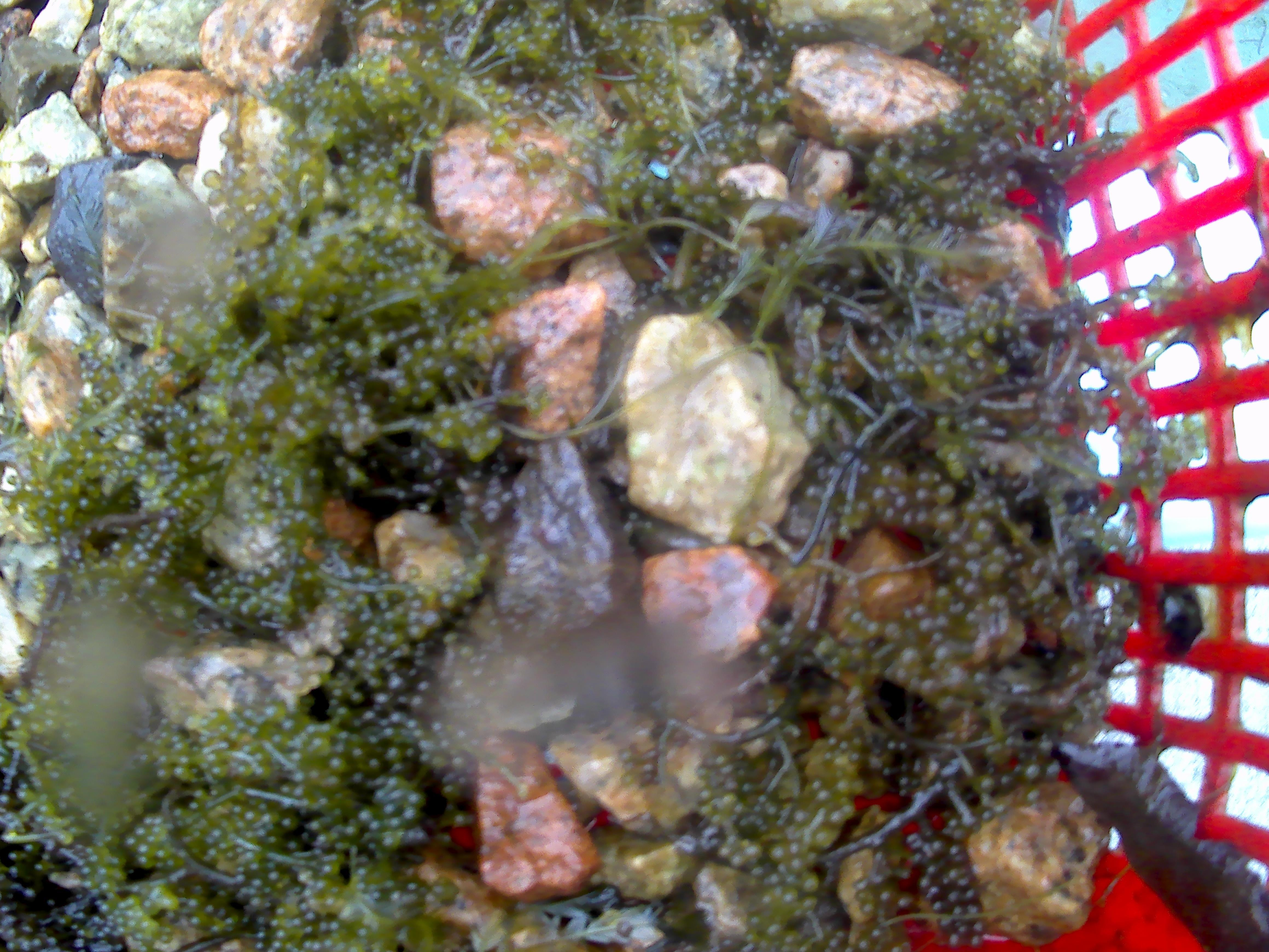Darkening: (990, 141, 1016, 165), (963, 579, 986, 601), (971, 522, 994, 544), (915, 619, 936, 641), (827, 706, 846, 727), (388, 675, 408, 694), (374, 690, 395, 708), (1003, 170, 1021, 190), (944, 26, 963, 44), (409, 696, 428, 714), (935, 512, 955, 529), (947, 197, 963, 218), (961, 542, 982, 558), (915, 603, 933, 621), (913, 759, 931, 777), (486, 507, 502, 527), (979, 156, 997, 173), (999, 774, 1017, 791), (1024, 765, 1042, 782), (963, 503, 982, 519), (872, 486, 889, 503), (925, 885, 942, 902), (984, 564, 1001, 581), (500, 491, 516, 509), (946, 552, 959, 574), (913, 510, 930, 526), (989, 187, 1005, 204), (951, 827, 967, 843), (979, 778, 995, 794), (937, 485, 954, 500), (900, 739, 915, 756), (870, 923, 884, 941), (947, 867, 963, 882), (896, 895, 912, 910), (915, 487, 930, 503), (305, 910, 321, 925), (881, 466, 898, 480), (876, 347, 893, 361), (724, 779, 739, 794), (895, 491, 909, 507), (879, 884, 893, 900), (932, 902, 948, 916), (1002, 328, 1016, 344), (640, 773, 656, 787), (151, 534, 167, 548), (1007, 570, 1022, 584), (931, 841, 947, 854), (938, 918, 954, 931), (45, 840, 58, 856), (949, 843, 965, 856), (954, 853, 970, 866), (700, 20, 714, 34), (144, 541, 159, 554), (0, 794, 12, 810), (967, 889, 981, 902), (957, 878, 971, 891), (976, 62, 989, 76), (826, 736, 840, 749), (250, 899, 265, 911), (1015, 552, 1026, 568), (899, 777, 912, 790), (355, 648, 368, 661), (888, 740, 901, 753), (235, 891, 248, 904), (927, 861, 939, 874), (946, 888, 958, 901), (953, 907, 966, 919), (691, 33, 703, 46), (973, 922, 985, 934), (644, 764, 660, 773), (949, 935, 962, 946), (959, 926, 971, 937), (971, 935, 983, 946)
Harvestable: (281, 716, 304, 738), (265, 702, 286, 723), (813, 827, 833, 848), (391, 376, 411, 396), (769, 844, 789, 863), (401, 39, 421, 58), (225, 274, 246, 292), (802, 873, 819, 893), (425, 2, 443, 20), (329, 757, 348, 774), (779, 889, 798, 906), (311, 737, 331, 753), (418, 380, 438, 396), (159, 894, 178, 910), (63, 478, 80, 495), (967, 341, 984, 358), (467, 444, 484, 461), (36, 505, 54, 521), (126, 558, 142, 576), (271, 732, 289, 748), (139, 473, 156, 489), (112, 540, 128, 557), (216, 210, 232, 227), (292, 277, 308, 294), (492, 23, 506, 42), (211, 763, 227, 779), (204, 171, 220, 187), (234, 189, 250, 205), (495, 86, 511, 102), (491, 127, 507, 143), (370, 54, 386, 70), (487, 426, 503, 442), (422, 357, 438, 373), (409, 624, 426, 639), (174, 766, 191, 781), (388, 631, 405, 646), (138, 855, 155, 870), (442, 417, 457, 434), (211, 708, 226, 724), (985, 327, 1000, 343), (441, 592, 457, 607), (307, 260, 323, 275), (680, 8, 695, 24), (432, 337, 447, 353), (138, 843, 155, 857), (490, 336, 503, 354), (406, 565, 421, 580), (475, 553, 490, 568), (465, 569, 480, 584), (482, 78, 497, 93), (462, 327, 477, 342), (466, 309, 481, 324), (15, 687, 29, 703), (477, 319, 491, 335), (32, 719, 46, 734), (492, 109, 507, 123), (532, 20, 546, 35), (538, 3, 552, 18), (424, 422, 438, 437), (454, 339, 469, 353), (177, 754, 193, 767), (209, 191, 225, 204), (219, 312, 232, 328), (236, 762, 252, 775), (255, 752, 271, 765), (246, 741, 262, 754), (17, 788, 31, 802), (462, 585, 476, 599), (204, 287, 218, 301), (384, 164, 398, 178), (126, 837, 140, 851), (135, 825, 149, 839), (100, 901, 115, 914), (100, 880, 115, 893), (358, 809, 372, 822), (157, 767, 171, 780), (59, 831, 73, 844), (127, 894, 140, 908), (60, 501, 73, 515), (233, 169, 246, 183), (667, 10, 680, 24), (697, 5, 710, 19), (616, 16, 630, 29), (636, 45, 649, 59), (527, 45, 541, 58), (175, 806, 188, 820), (256, 767, 270, 780), (175, 741, 190, 753), (465, 0, 477, 15), (509, 23, 524, 35), (403, 806, 416, 819), (292, 770, 305, 783), (40, 803, 53, 816), (426, 124, 439, 137), (410, 137, 423, 150), (598, 23, 611, 36), (153, 825, 166, 838), (225, 292, 239, 304), (621, 46, 633, 60), (194, 789, 209, 800), (590, 14, 602, 27), (646, 55, 658, 68), (58, 515, 72, 526), (146, 835, 160, 846), (630, 24, 642, 36), (517, 37, 530, 48), (84, 878, 98, 888), (436, 435, 450, 445), (268, 871, 280, 882), (400, 150, 411, 162), (158, 848, 170, 859), (640, 28, 650, 41), (642, 70, 655, 80), (547, 24, 557, 37), (674, 34, 684, 46), (540, 35, 552, 44), (387, 0, 401, 7), (138, 489, 148, 498)
Whitening: (272, 651, 298, 677), (291, 638, 311, 657), (117, 434, 137, 451), (318, 656, 334, 671), (318, 630, 333, 645), (321, 614, 336, 629), (328, 642, 343, 656), (258, 533, 272, 547), (101, 339, 114, 353), (723, 30, 736, 44), (659, 0, 671, 6)
